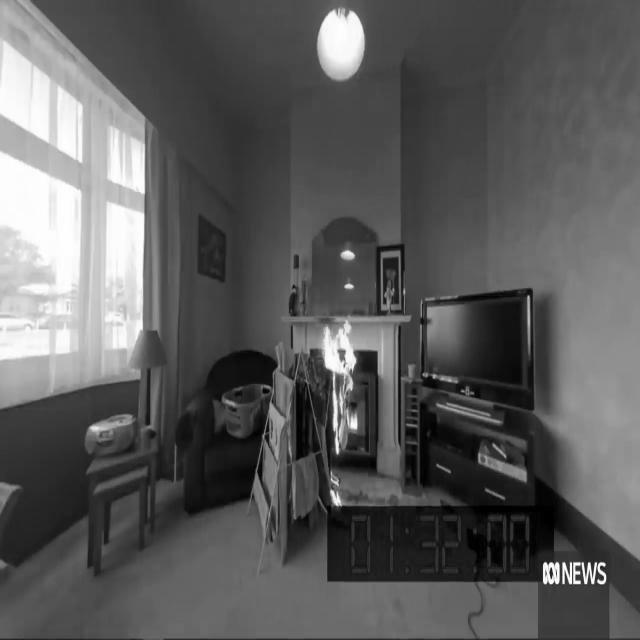smoke: (318, 314, 359, 456), (327, 468, 346, 508)
